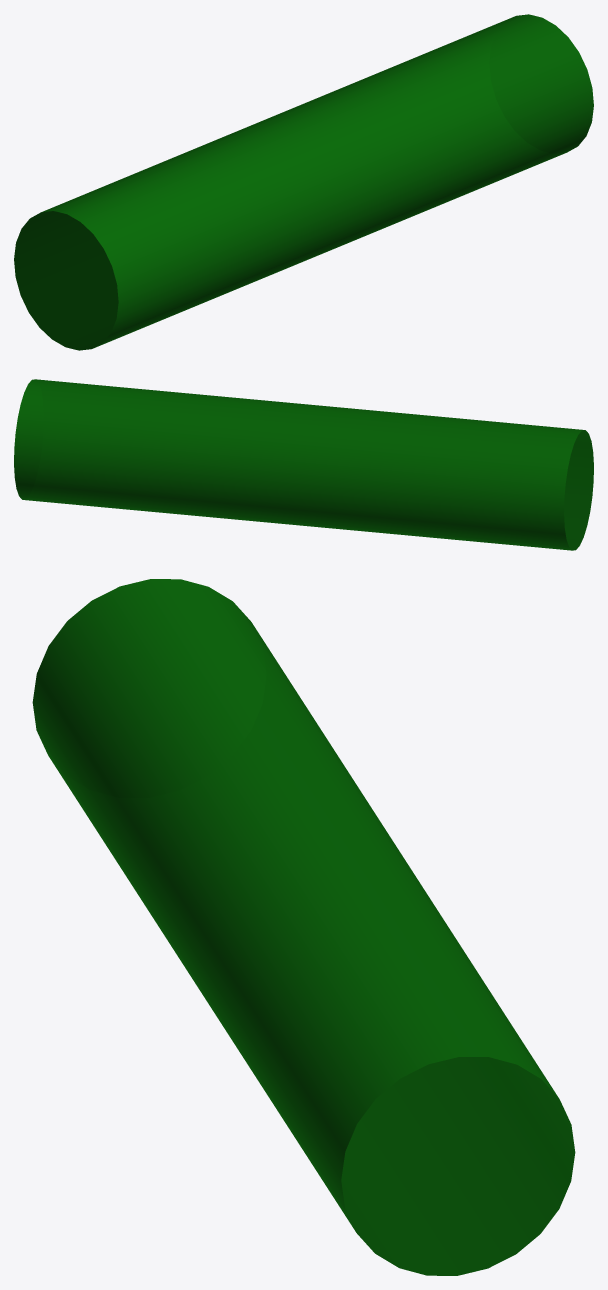
The model's file is Event_134586304_jet_4.fbx.
3 views of the same model, one above another, from view 1: azimuth 30°, elevation 25°; view 2: azimuth 150°, elevation 25°; view 3: azimuth 270°, elevation 25° (orthographic). The views are drawn at different scales.
Visible parts, largest first — view 1: Model; view 2: Model; view 3: Model.
Boxes of the visible parts, box(x1,y1,x2,y2) form: Model: box(14, 14, 593, 350); Model: box(14, 379, 593, 550); Model: box(32, 579, 575, 1275).
Bounding box in the file's own units: 0.1905 × 0.043 × 0.0892.
